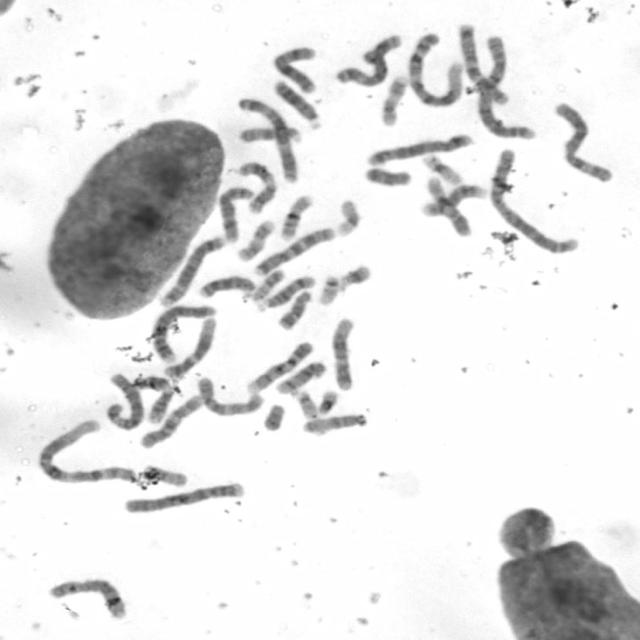A1: (32, 417, 142, 486), (404, 30, 464, 109)
A2: (484, 146, 582, 255), (472, 33, 538, 142)
A3: (233, 93, 301, 184), (331, 32, 402, 88)
B4: (120, 478, 245, 516), (149, 304, 220, 368)
B5: (157, 232, 226, 308), (364, 130, 475, 166)
C10: (136, 390, 206, 450), (194, 374, 266, 419)
C11: (235, 158, 278, 215), (130, 375, 177, 426)
C12: (161, 314, 218, 379), (327, 314, 358, 392)
C6: (551, 100, 615, 183), (104, 370, 147, 431)
C7: (455, 21, 512, 106), (250, 225, 336, 278)
C8: (45, 574, 131, 620), (214, 184, 256, 244)
C9: (243, 339, 315, 394), (440, 182, 489, 238)
D13: (271, 76, 323, 130), (196, 272, 256, 304)
D14: (255, 272, 317, 314), (272, 358, 328, 395)
D15: (298, 410, 368, 437), (236, 122, 304, 144)
E16: (276, 191, 315, 241), (418, 175, 452, 217)
E17: (233, 217, 278, 264), (376, 73, 409, 128)
E18: (274, 288, 314, 331), (360, 164, 414, 189)
F19: (419, 151, 464, 185), (332, 196, 363, 238)
F20: (250, 268, 288, 304), (140, 461, 190, 488)
G21: (335, 260, 373, 292), (314, 386, 340, 416)
G22: (289, 385, 320, 420), (314, 272, 340, 306)
X: (268, 43, 320, 95)
Y: (260, 400, 286, 433)
